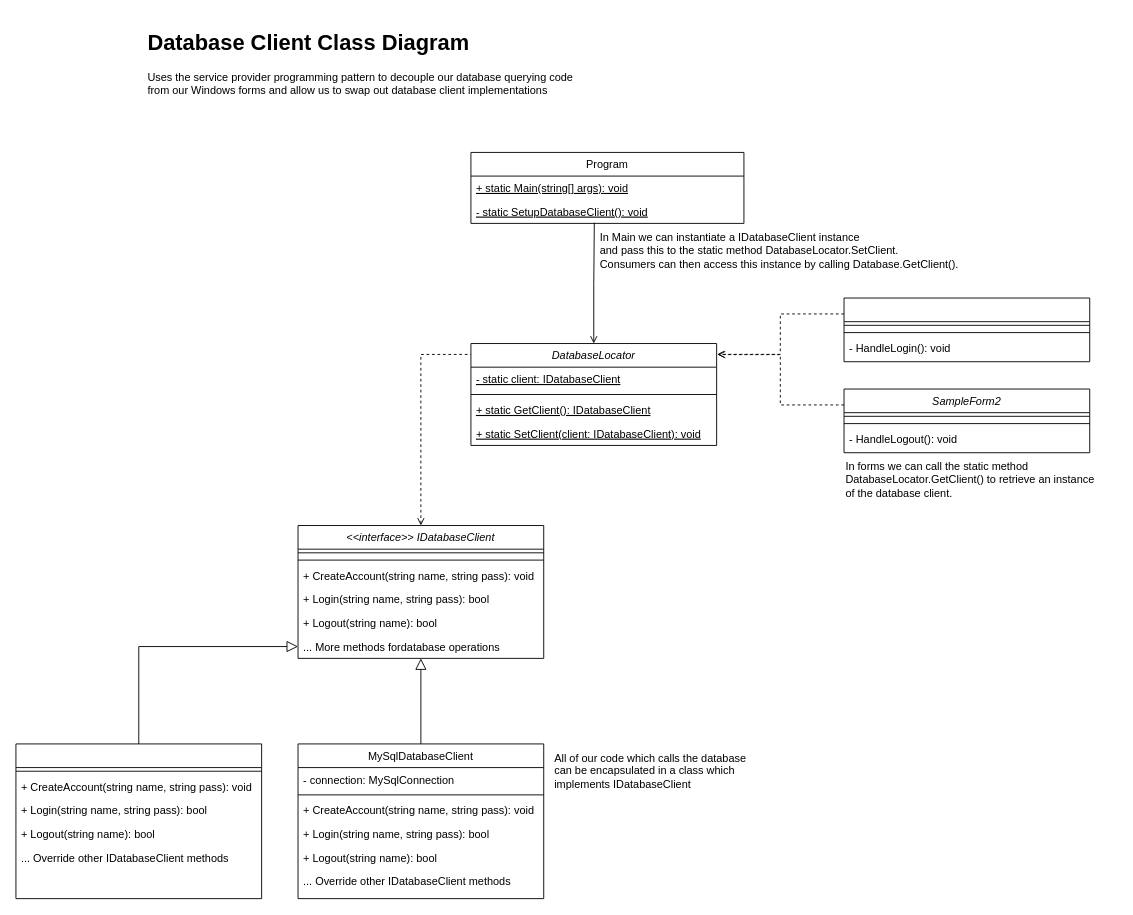
Some shapes in this 1133 by 915 pixel diagram are drawn without their labels. The shapes that lost their labels are listed below. From the top down, each one's box as (x1, y1, x2, y2) in pixels, then its label:
(843, 297, 1090, 362): SampleForm1
(15, 743, 262, 899): TestDatabaseClient
